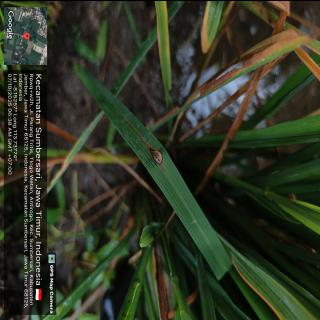Blast: (149, 147, 164, 165)
